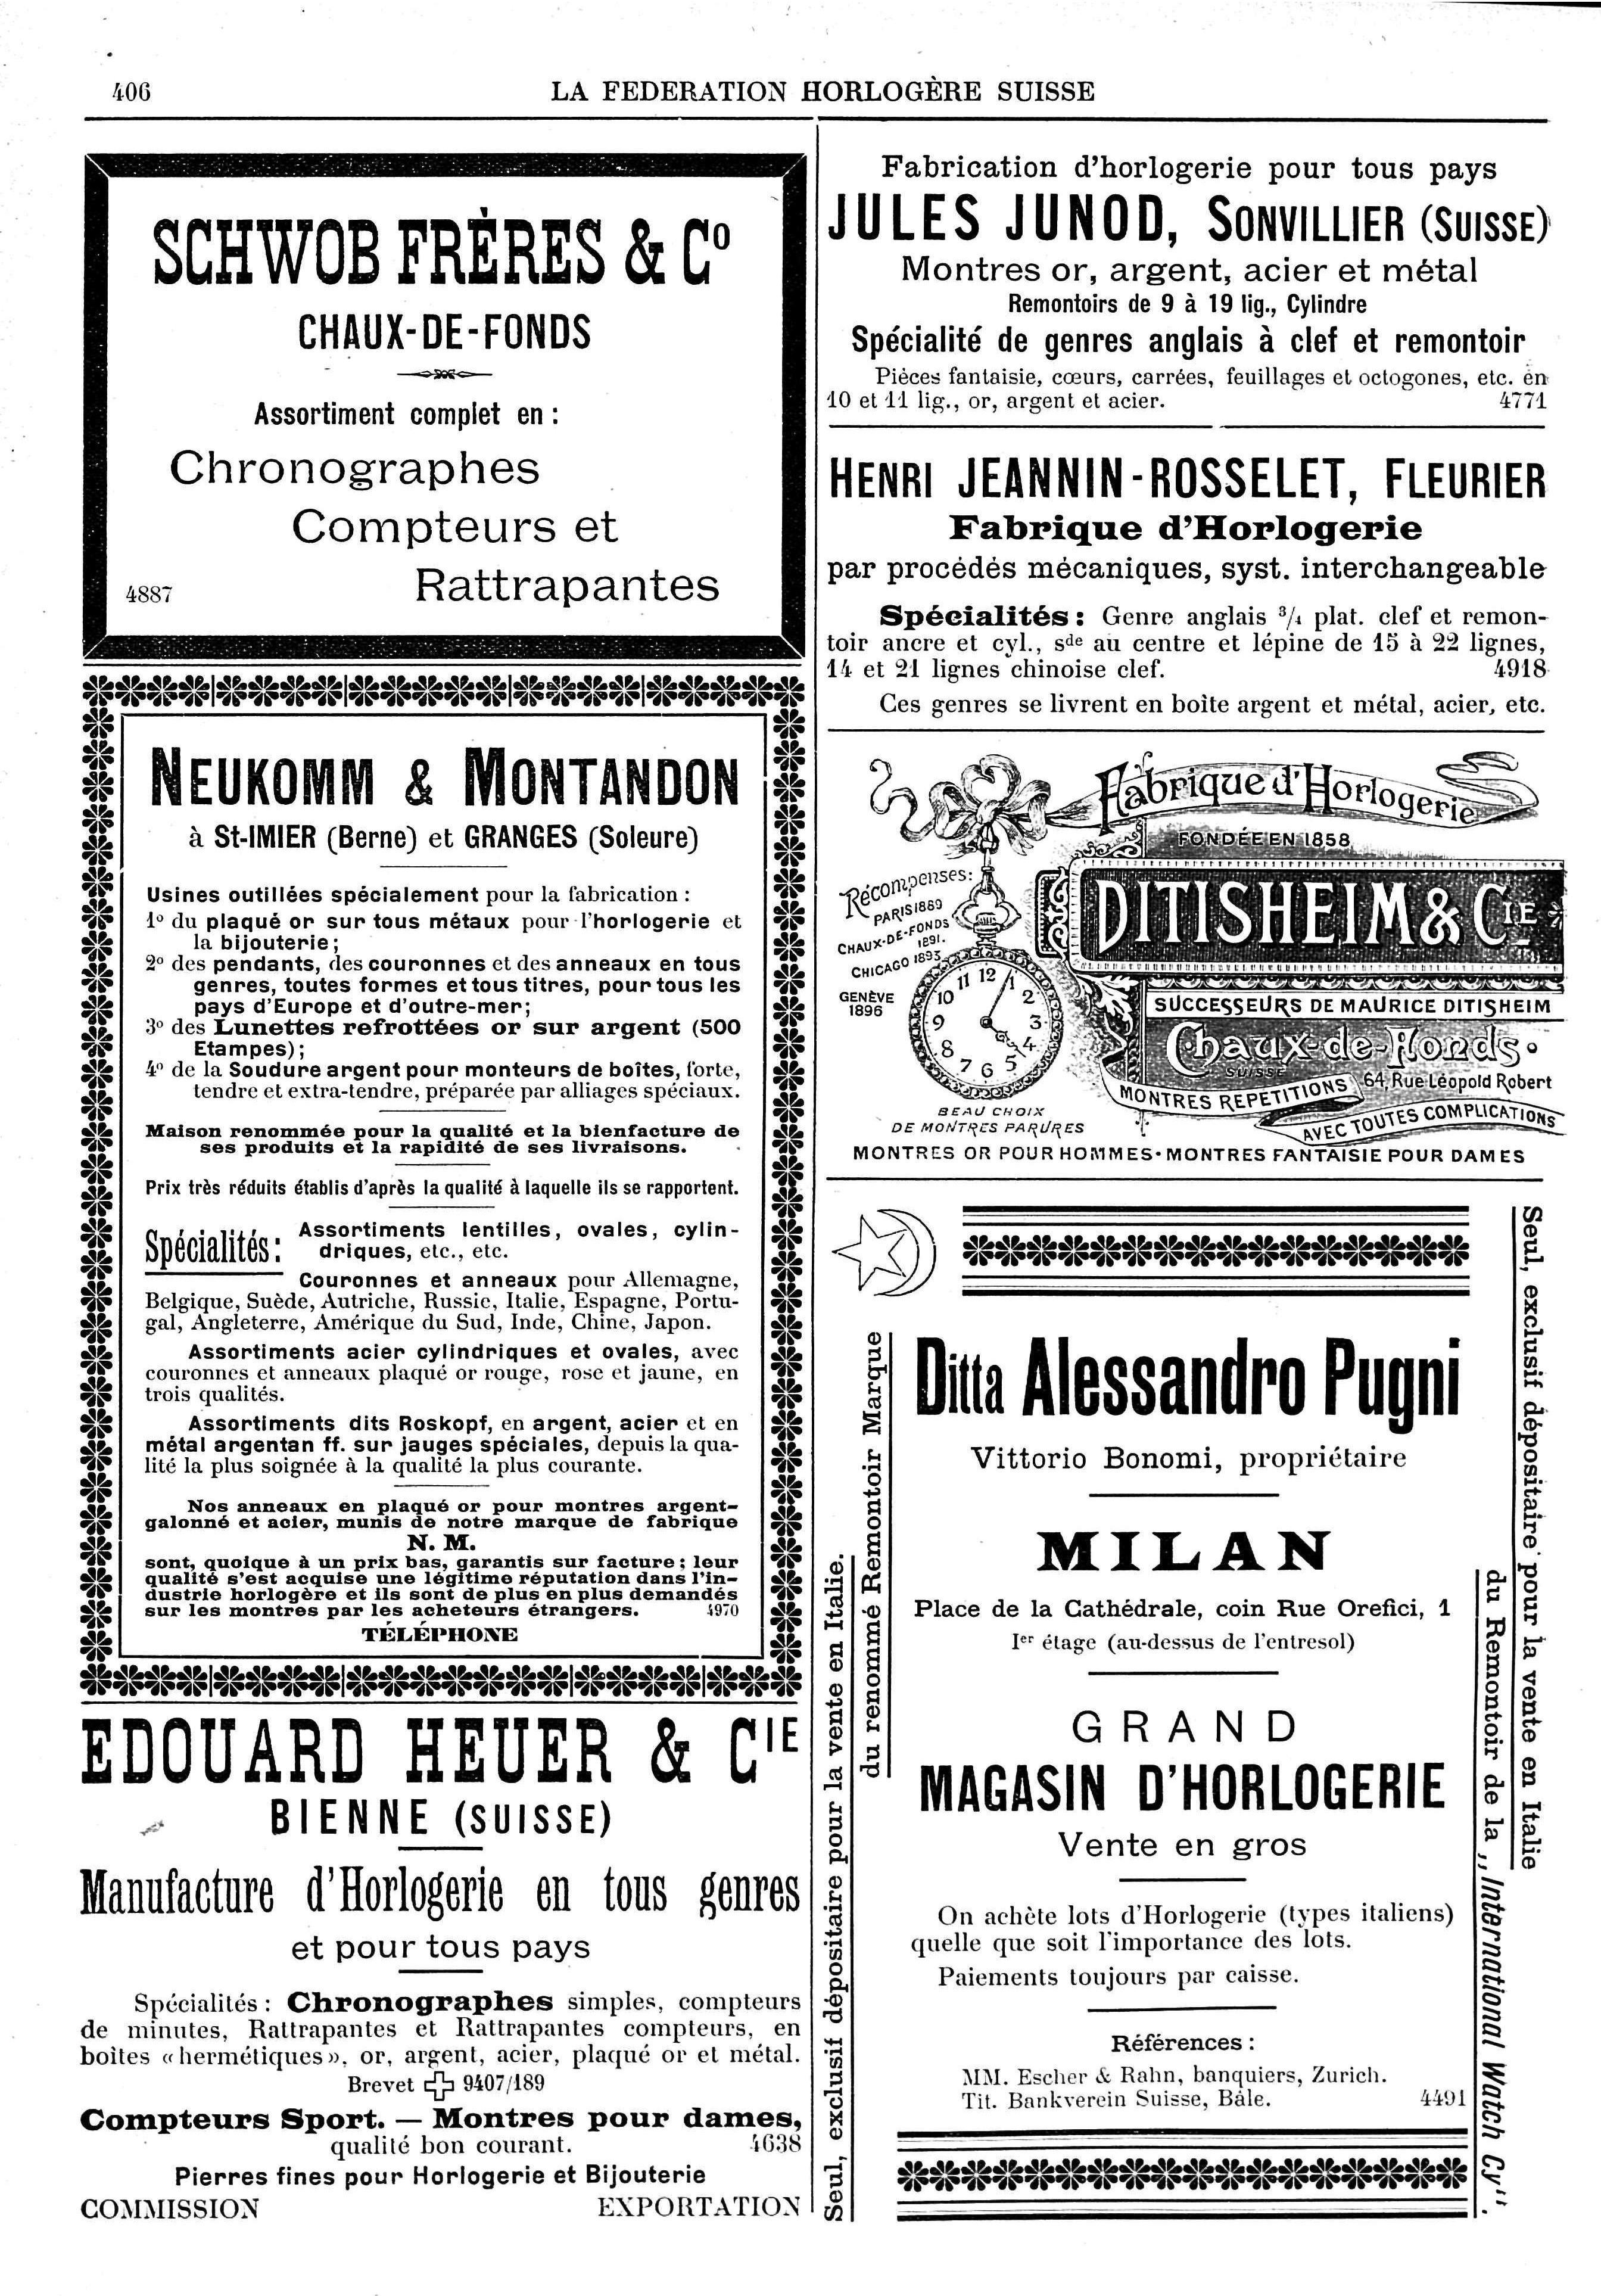figure: (832, 755, 1575, 1172)
list: (148, 879, 727, 1103)
section: (174, 452, 731, 607), (77, 1862, 802, 1965), (917, 1328, 1463, 1446), (84, 1713, 769, 1797), (828, 185, 1550, 256), (145, 213, 731, 293), (152, 745, 738, 817), (921, 1750, 1435, 1821), (853, 318, 1524, 365), (80, 2097, 802, 2137), (832, 462, 1540, 502), (283, 307, 600, 358), (947, 513, 1427, 546), (199, 829, 701, 860), (1034, 1528, 1329, 1579), (173, 2162, 701, 2184), (270, 1807, 621, 1841), (242, 398, 549, 434), (141, 1221, 276, 1272), (874, 604, 1074, 630)
text: (138, 1211, 731, 1649), (84, 1989, 809, 2087), (827, 600, 1529, 684), (914, 1898, 1453, 1992), (827, 358, 1550, 424), (917, 1588, 1446, 1659), (148, 1117, 738, 1164), (968, 2050, 1385, 2115), (827, 557, 1540, 590), (879, 141, 1500, 178), (148, 1171, 741, 1204), (549, 77, 1095, 108), (879, 698, 1543, 722), (1059, 1830, 1315, 1867), (1059, 1703, 1301, 1739), (596, 2181, 799, 2219), (977, 1460, 1416, 1476), (84, 2195, 270, 2224)
